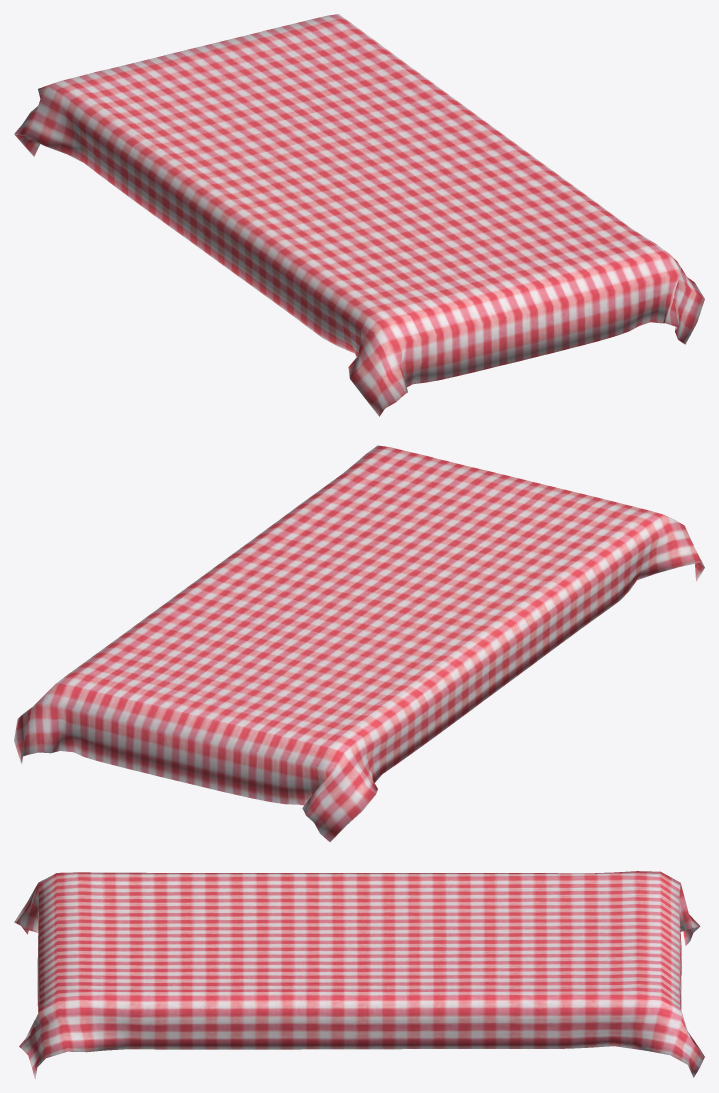
File: cloth.gltf
The picture shows the model from 3 angles, top to bottom: view 1: azimuth 30°, elevation 25°; view 2: azimuth 150°, elevation 25°; view 3: azimuth 270°, elevation 25°; orthographic projection. The views are drawn at different scales.
Parts seen in each view (by area): view 1: model_2; view 2: model_2; view 3: model_2.
Boxes of the visible parts, x1=… form: model_2: x1=14, y1=14, x2=704, y2=416; model_2: x1=14, y1=445, x2=704, y2=841; model_2: x1=14, y1=871, x2=704, y2=1078.
Bounding box in the file's own units: 2.35 × 0.5391 × 4.31.
1 material, 1 textured.
